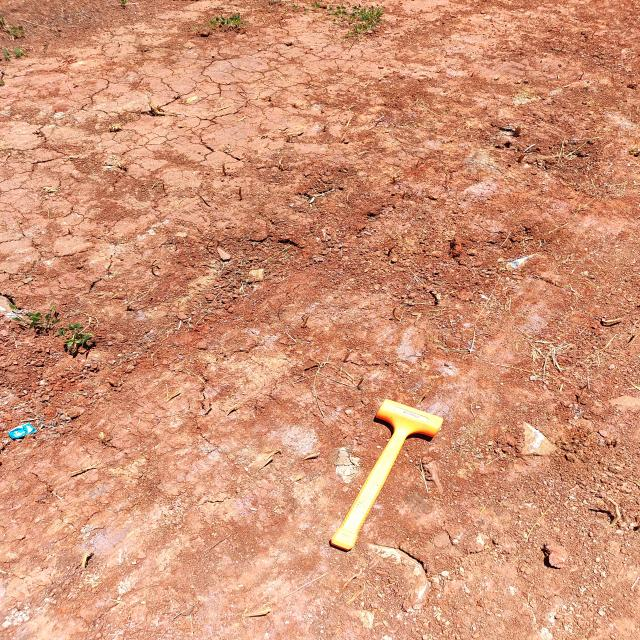Orange_hammer: (328, 398, 444, 551)
